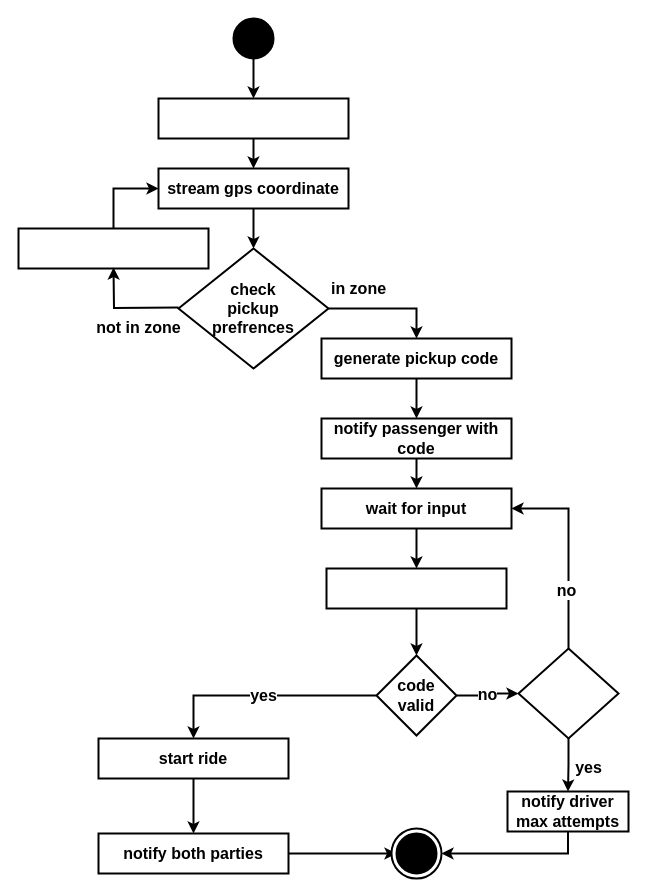
Image size: 646x896. Some labels were removed from this diagram. The centre of each missing label's shape, as x and y in pixels:
continue tracking: point 113,248
max attempt: point 568,693
start location tracking: point 253,118
verify picup code: point 416,588
